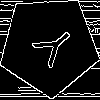Y: (24, 21, 79, 75)
